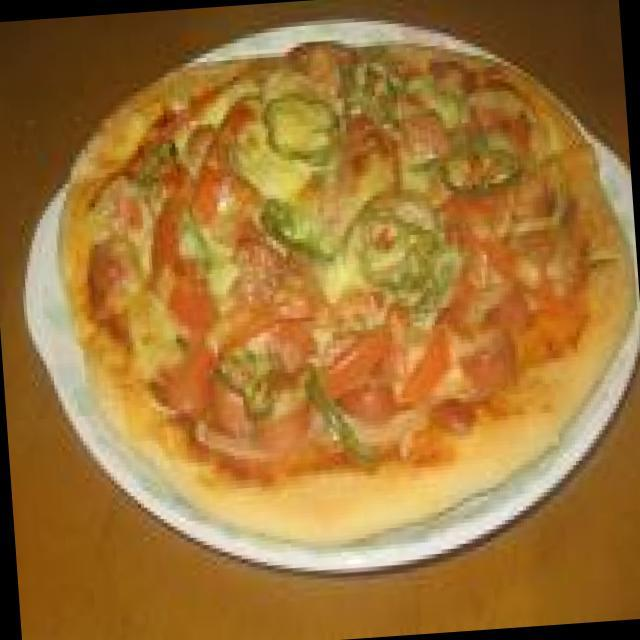Pizza: (39, 20, 640, 560)
